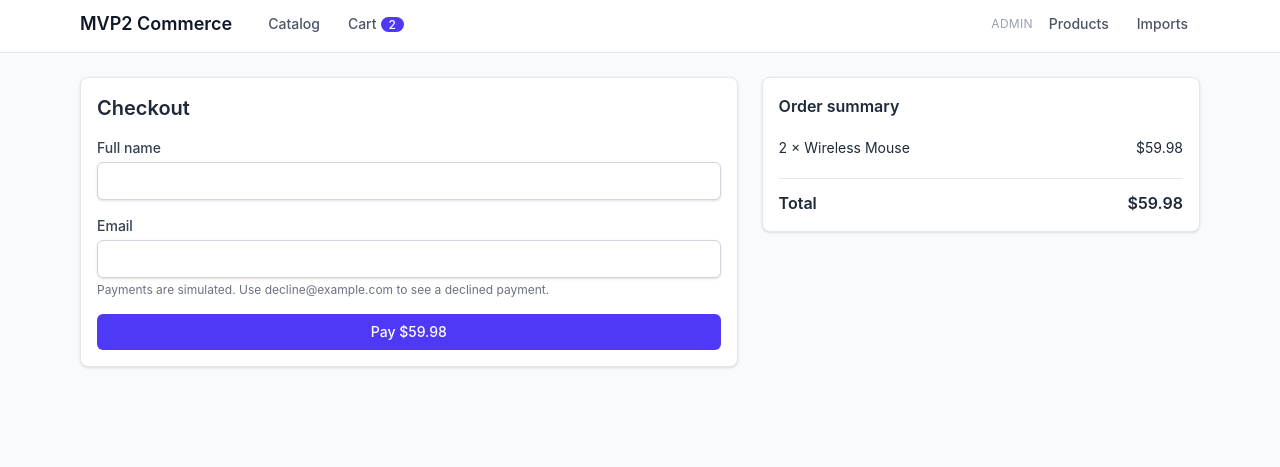
checkout › refreshes the cart and asks to review the new total when prices changed
Type "Ada Lovelace" into the field labelled "Full name" at (409, 181), box [97,162,721,200]
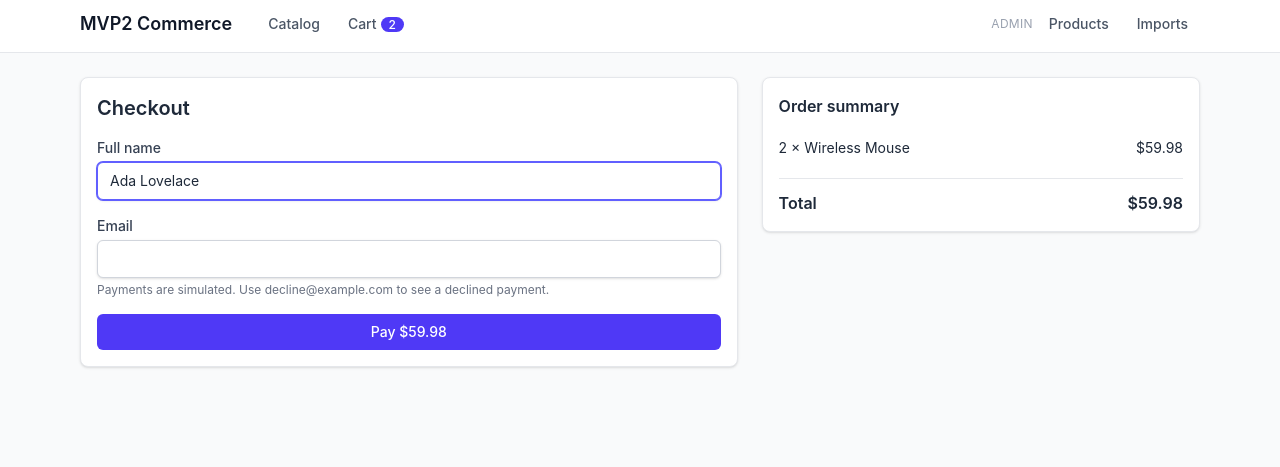
Type "ada@example.com" into the field labelled "Email" at (409, 259), box [97,240,721,278]
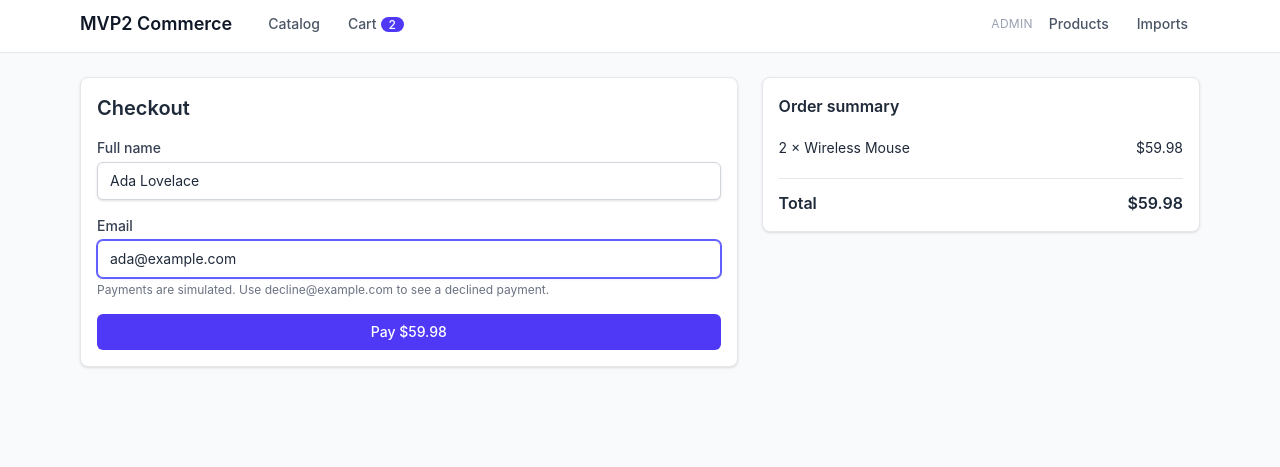
Click the button "Pay $59.98" at (409, 332), box [97,314,721,350]
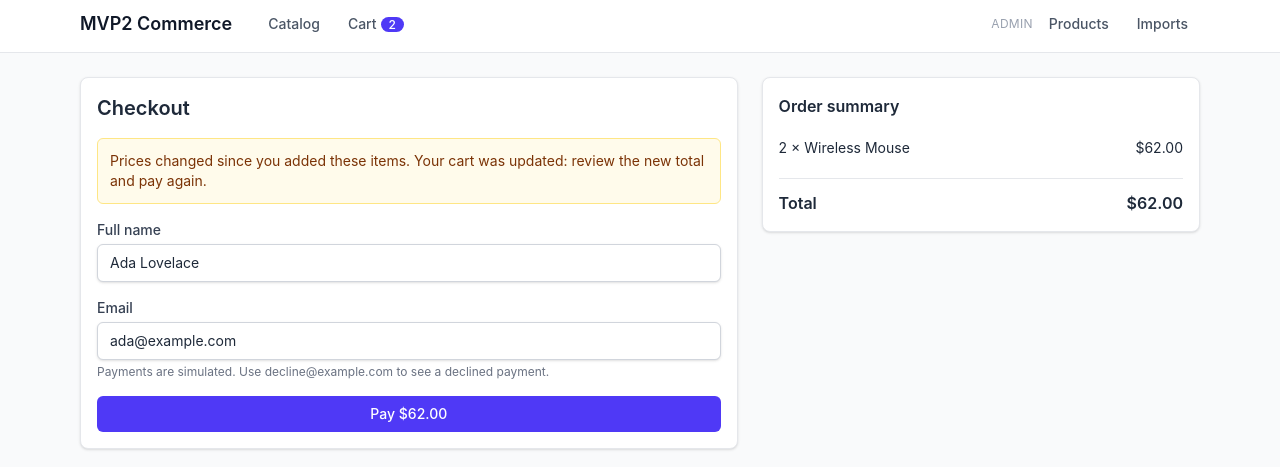
Check: the text "Prices changed" is shown, box [110,152,704,189]
Check: the button "Pay $62.00" is shown, box [97,396,721,432]
